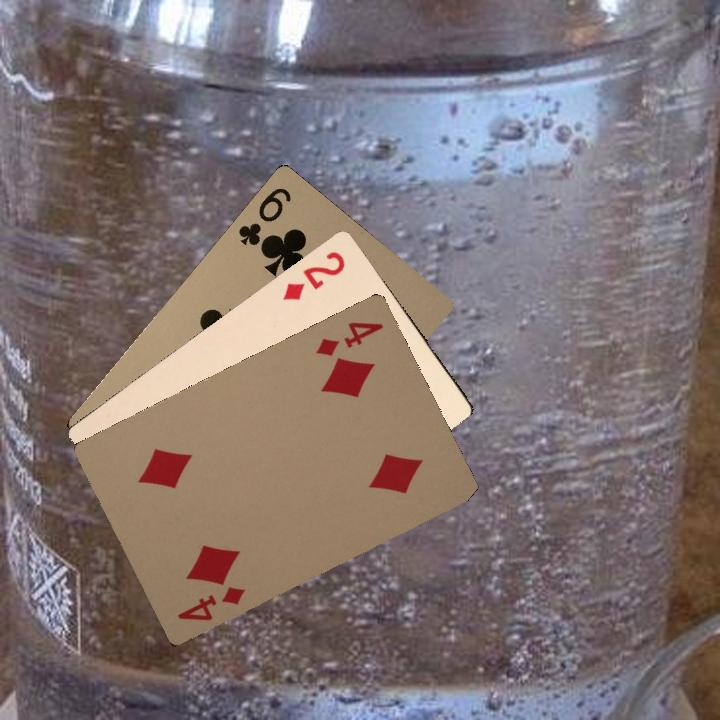2d: (279, 247, 348, 303)
4d: (173, 582, 248, 624), (312, 317, 386, 359)
6c: (234, 183, 294, 253)
